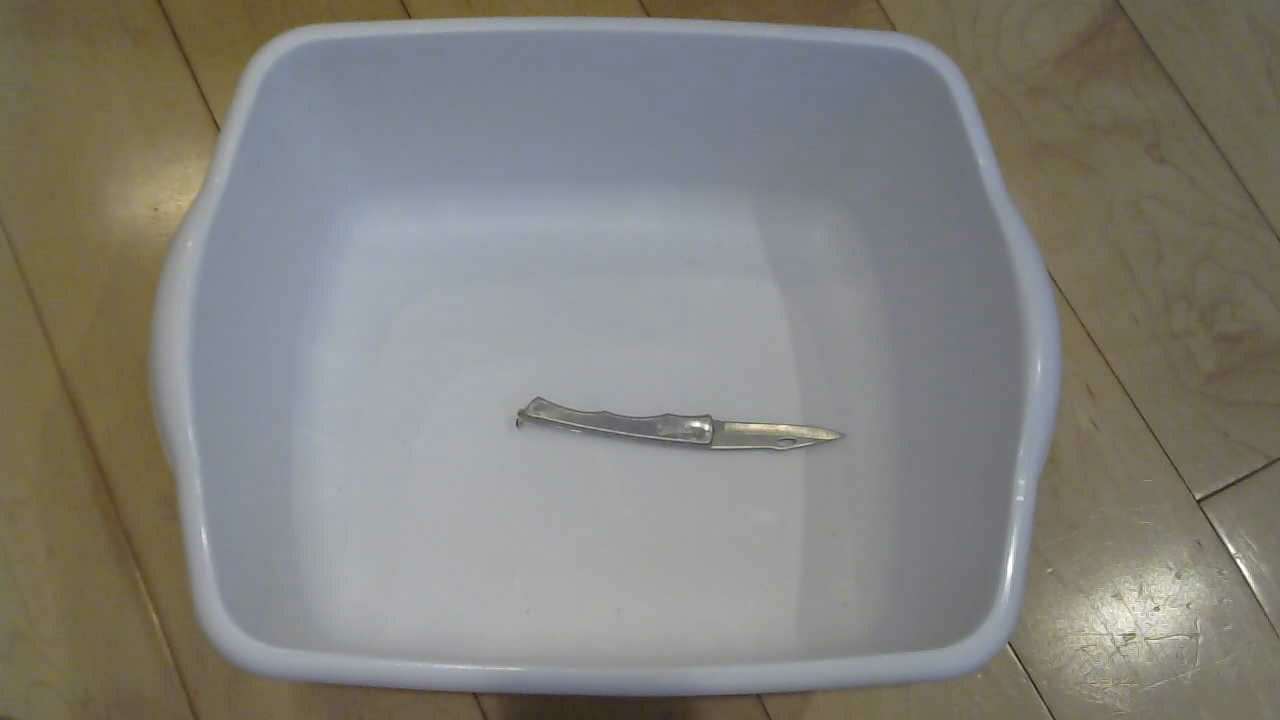knife: (512, 388, 869, 478)
